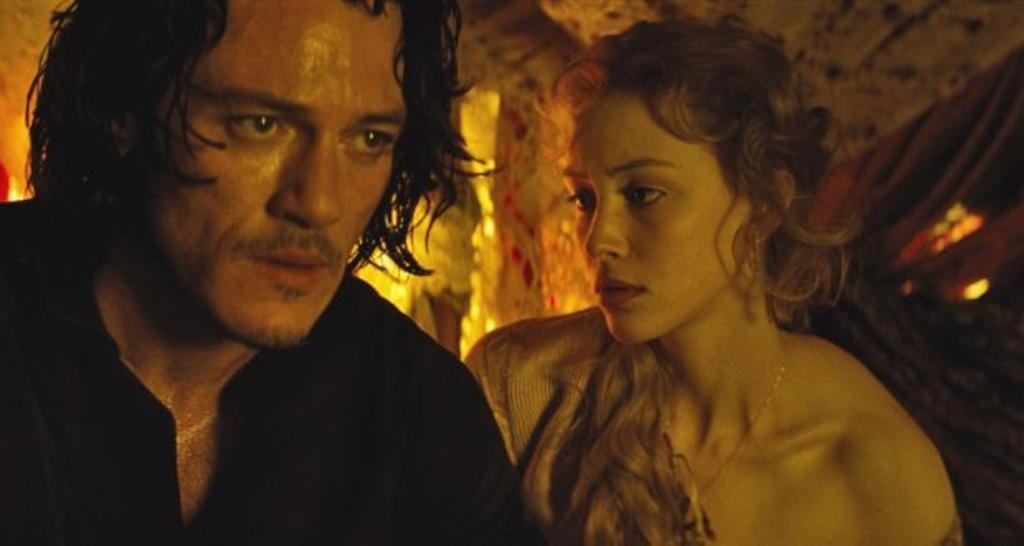face: (162, 6, 402, 340), (568, 106, 754, 336)
